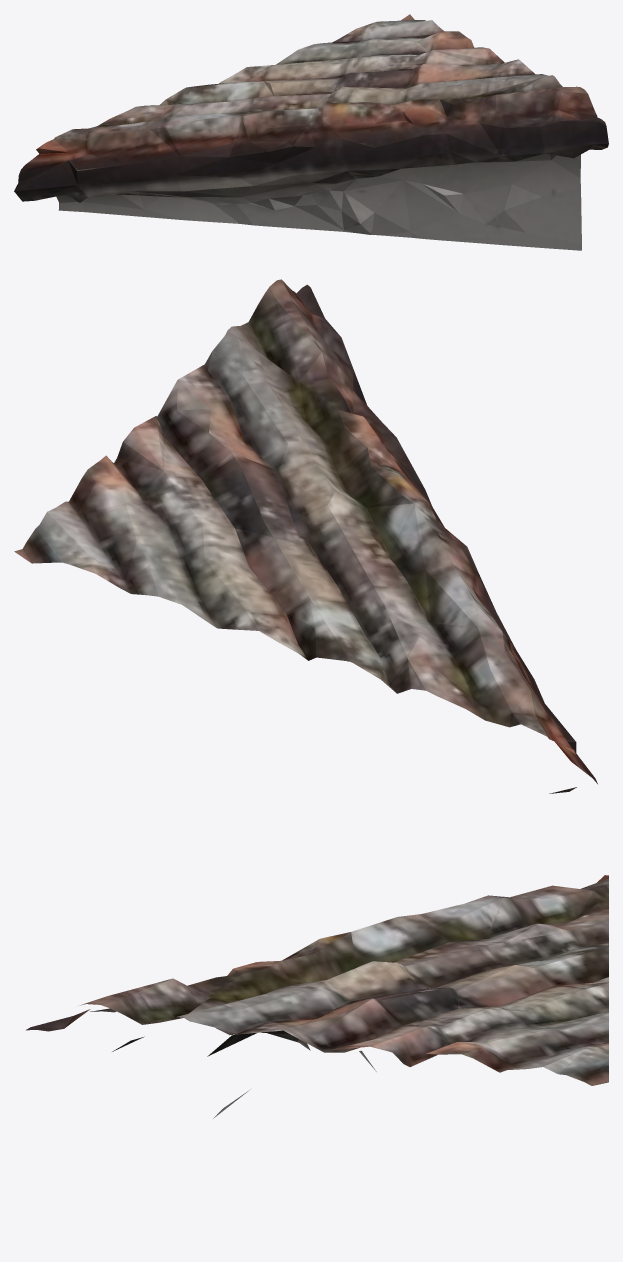
3 renders of one model, top to bottom at view 1: azimuth 30°, elevation 25°; view 2: azimuth 150°, elevation 25°; view 3: azimuth 270°, elevation 25°, orthographic. The views are drawn at different scales.
Bounding box in the file's own units: 2.05 × 0.8061 × 1.78.
1 material, 1 textured.
